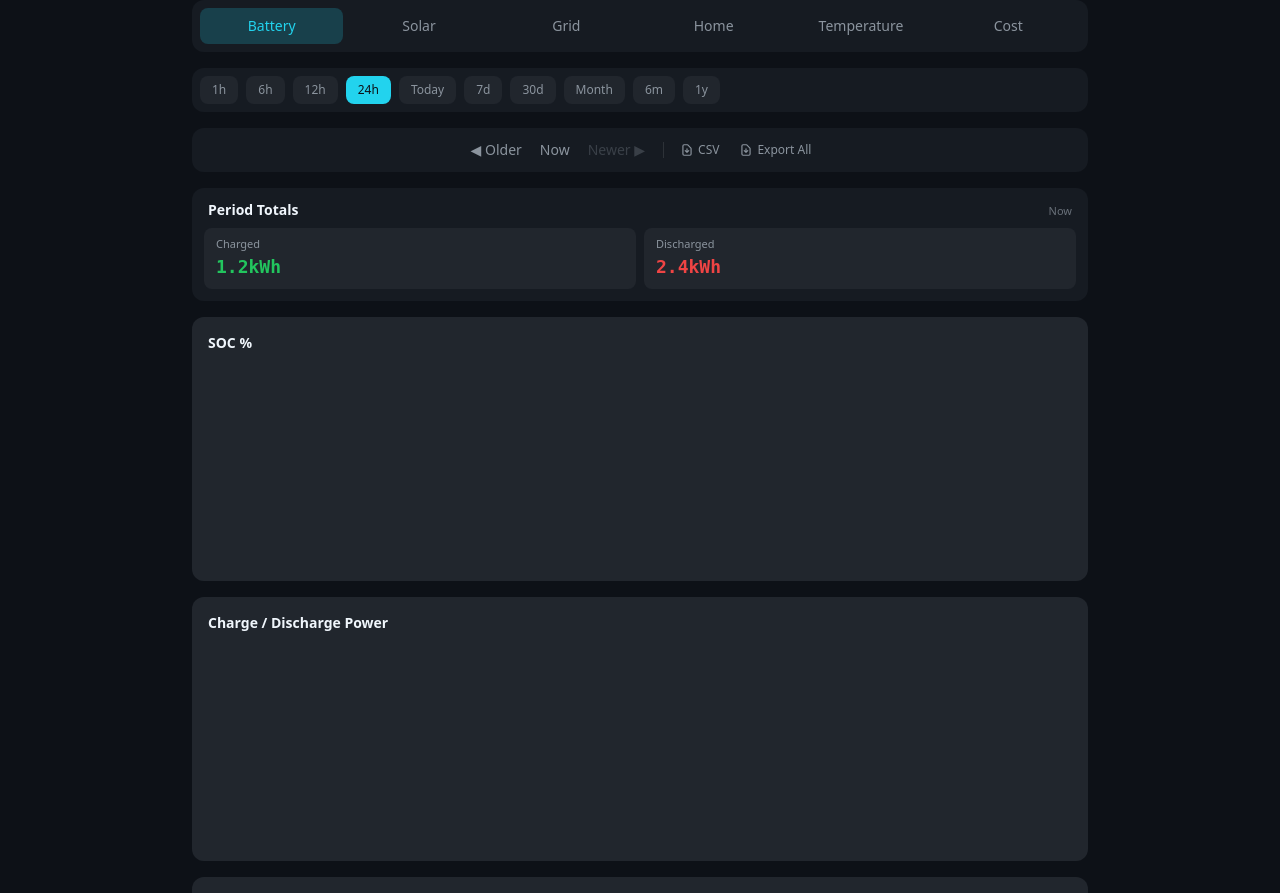
Scenario: <HistoryPage/> — period totals (issue #237) › shows the additive totals belonging to each energy tab
Expected: the element "Period Totals" is shown, [192,188,1088,300]
Expected: the text "1.2kWh" is shown, [216,256,281,276]
Click the button "Solar" at (419, 26), box [347,8,491,44]
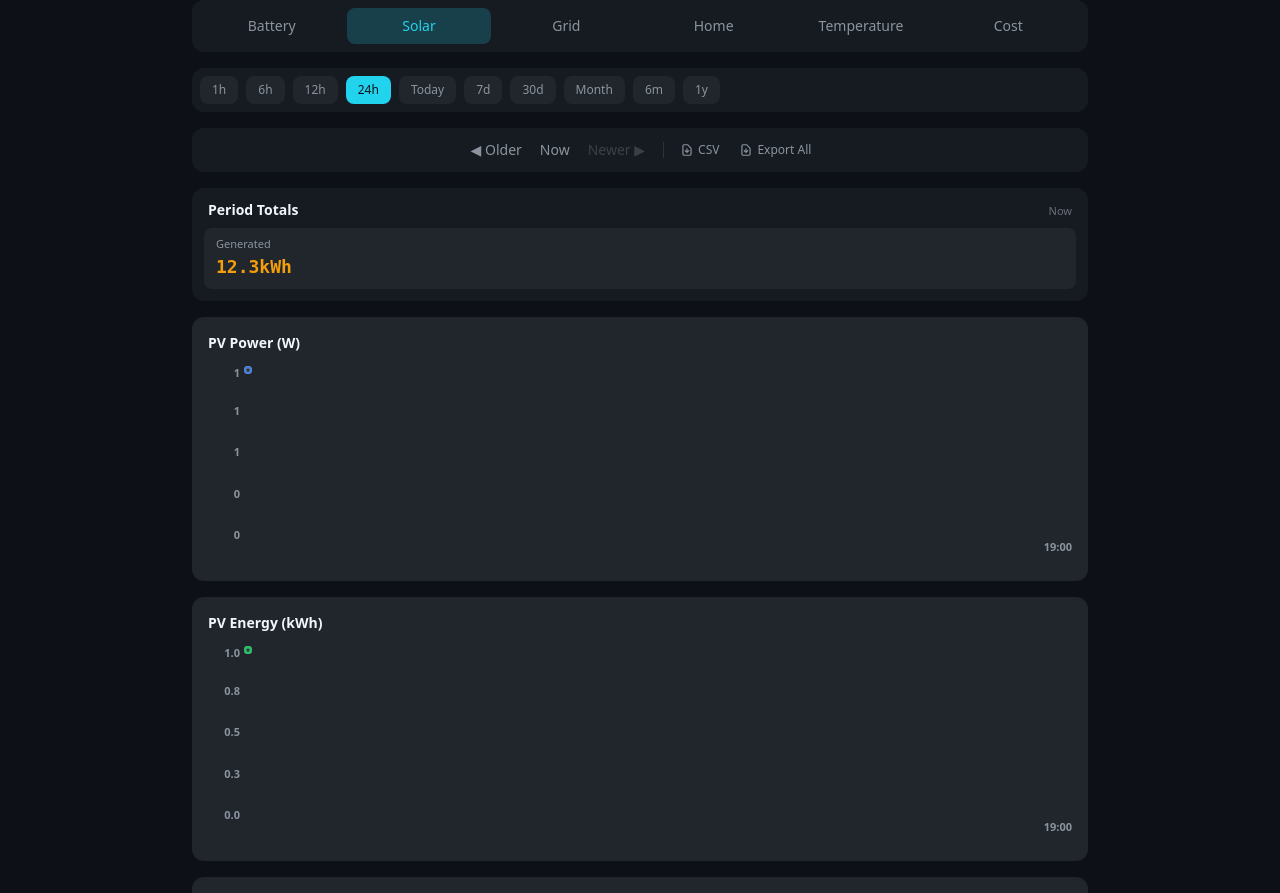
Now the text "12.3kWh" is shown, box [216,256,292,276]
Click the button "Grid" at (566, 26), box [495,8,638,44]
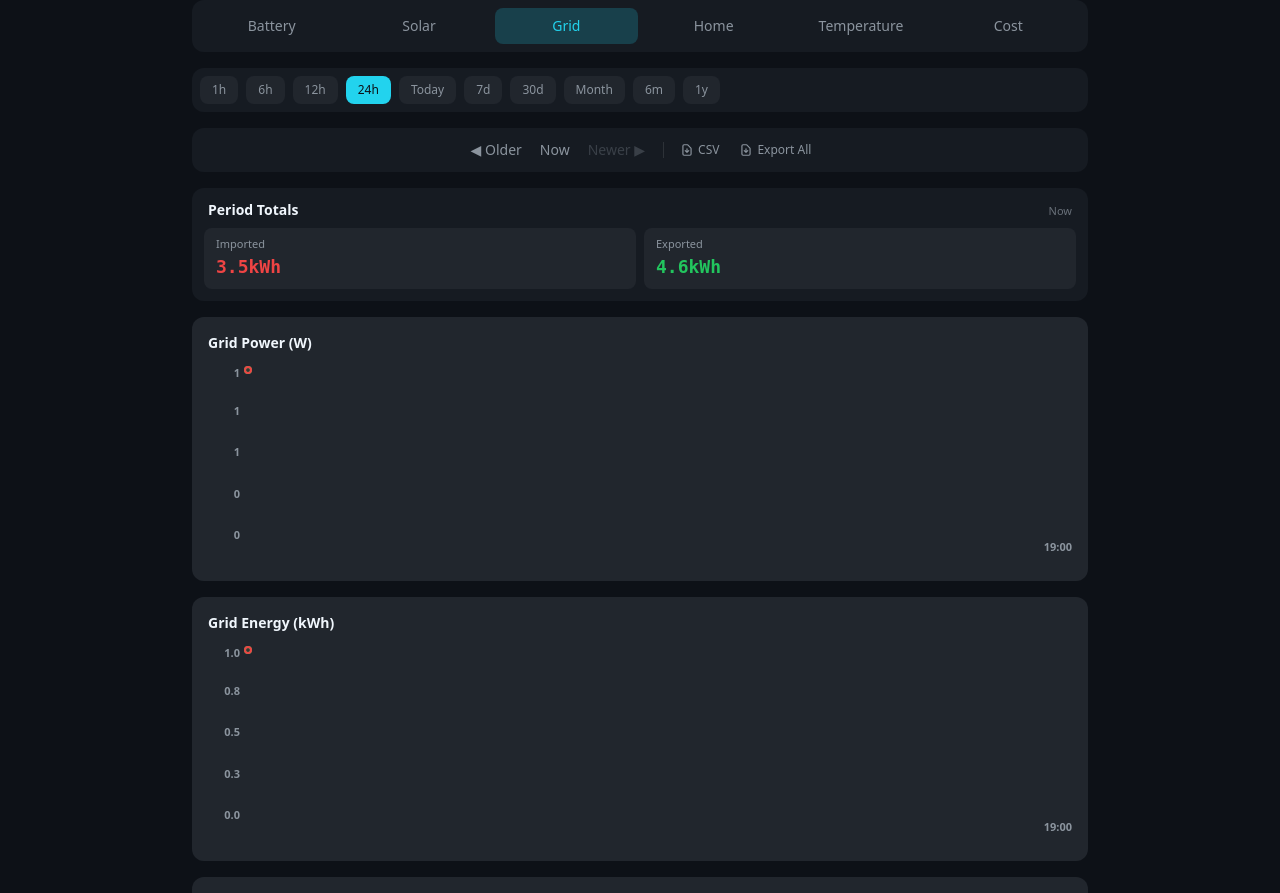
Now the text "3.5kWh" is shown, box [216,256,281,276]
Now the text "4.6kWh" is shown, box [656,256,721,276]
Click the button "Home" at (714, 26), box [642,8,785,44]
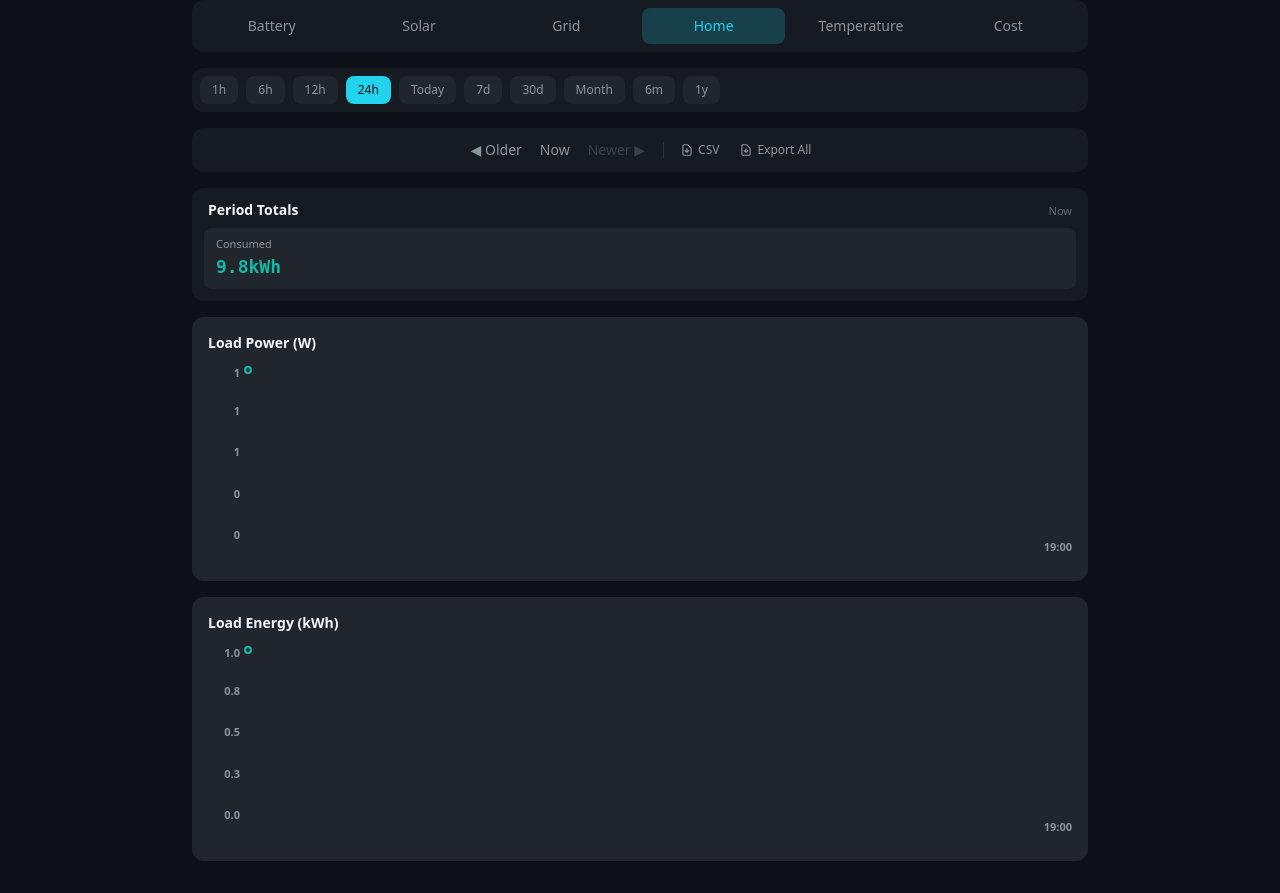
Now the text "9.8kWh" is shown, box [216,256,281,276]
